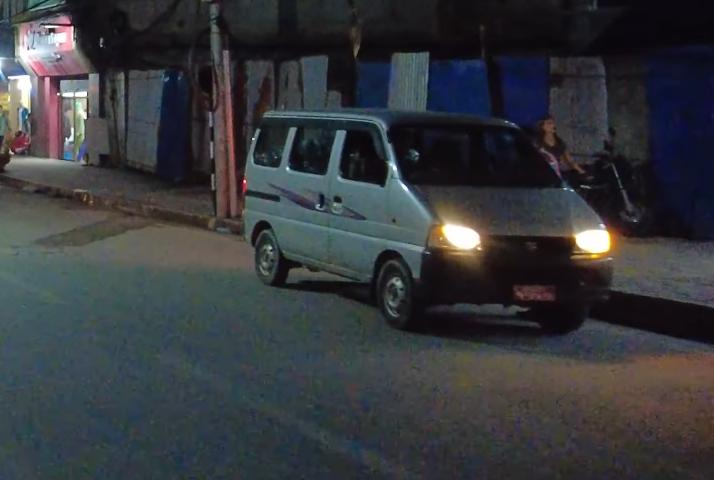van: (227, 92, 619, 339)
